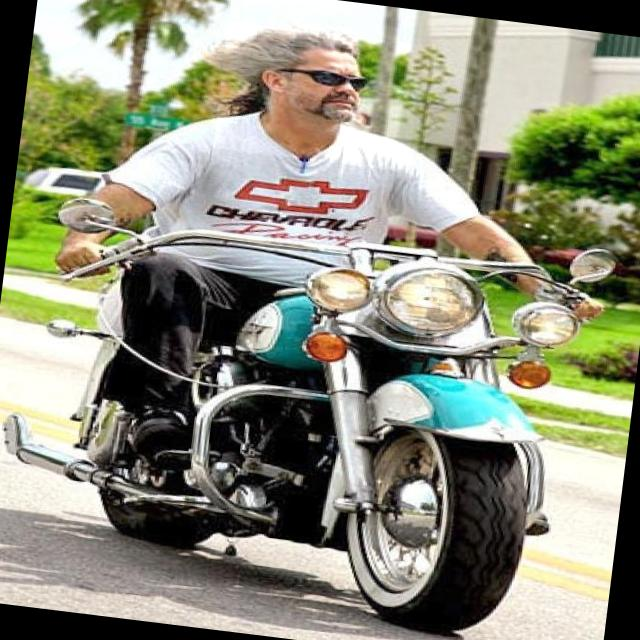without helmet: (212, 20, 422, 172)
